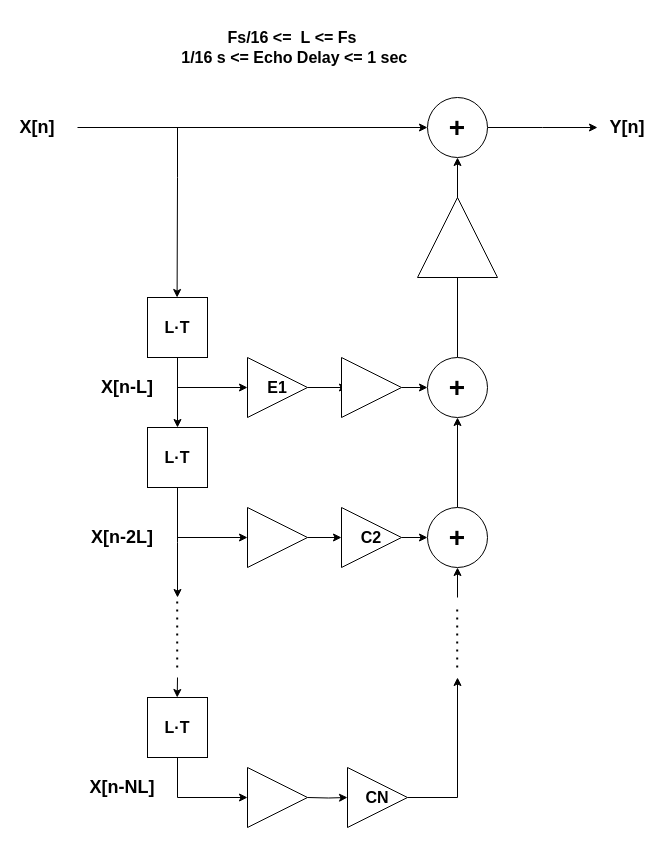
This 664x845 diagram has some shape labels left out. The shapes that lost their labels are listed below. From the top down, each one's centre as x and y in pixels, then its label:
(x=457, y=237): Echo-vol
(x=371, y=387): C1
(x=277, y=537): E2
(x=277, y=797): EN
